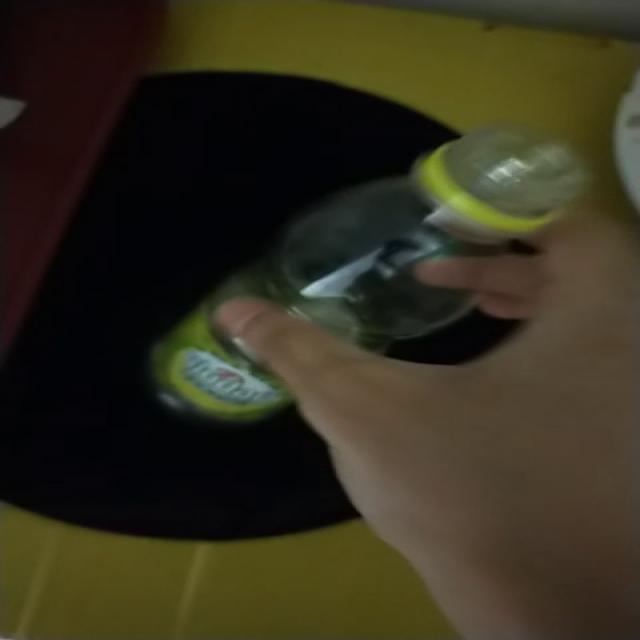plastic: (152, 124, 589, 420)
